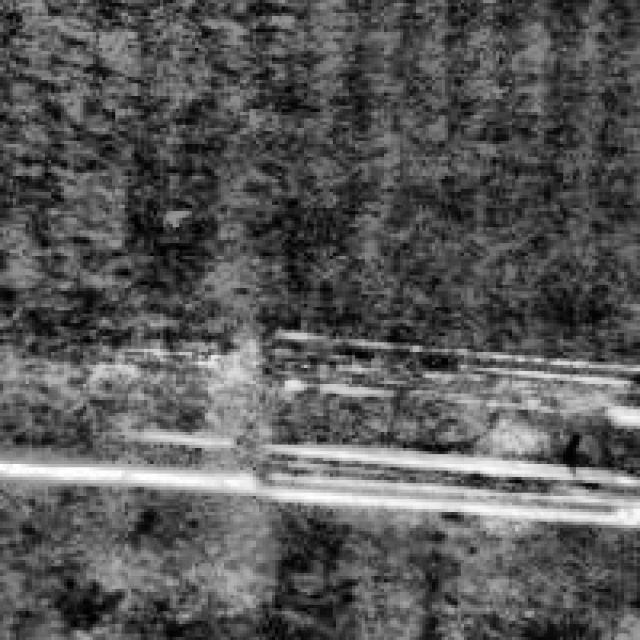Inclusion: (0, 428, 634, 532), (269, 320, 630, 416)
